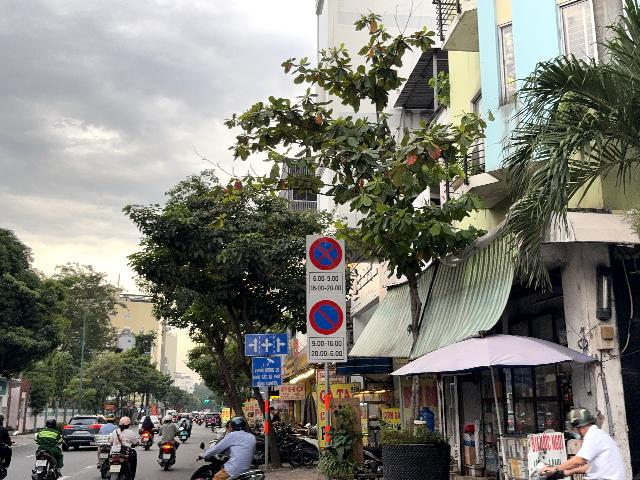cam-do-xe: (309, 300, 343, 335)
cam-dung-va-do-xe: (309, 238, 342, 271)
